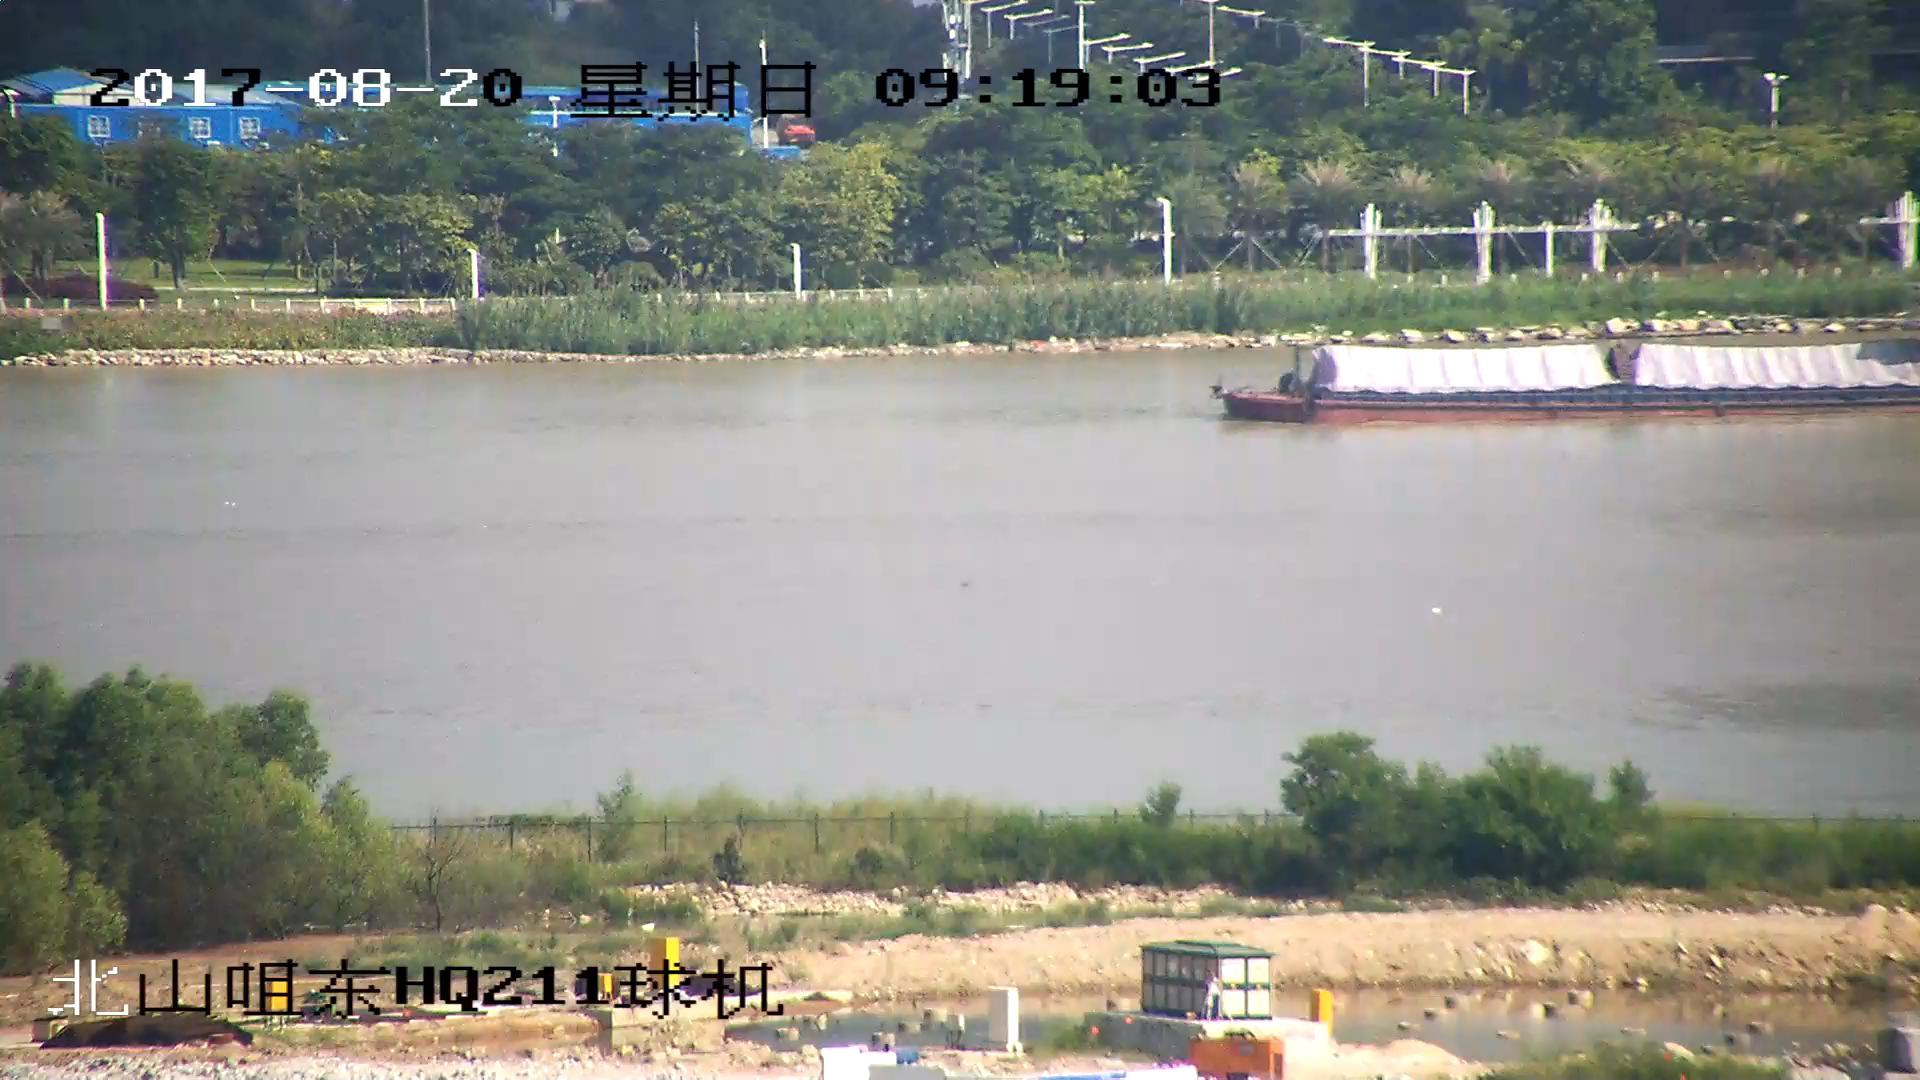Ship: (1226, 335, 1920, 419)
